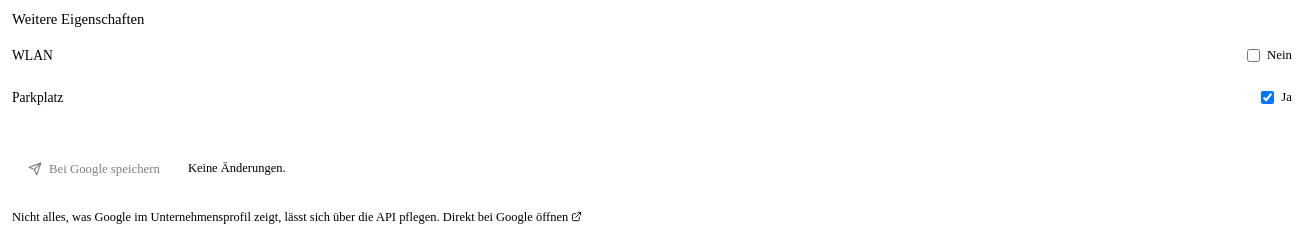
it: Speichern › sendet nichts nach Hin- und Zurückändern
Click the checkbox named "WLAN" at [1254, 56], box 1247,49 -> 1260,62
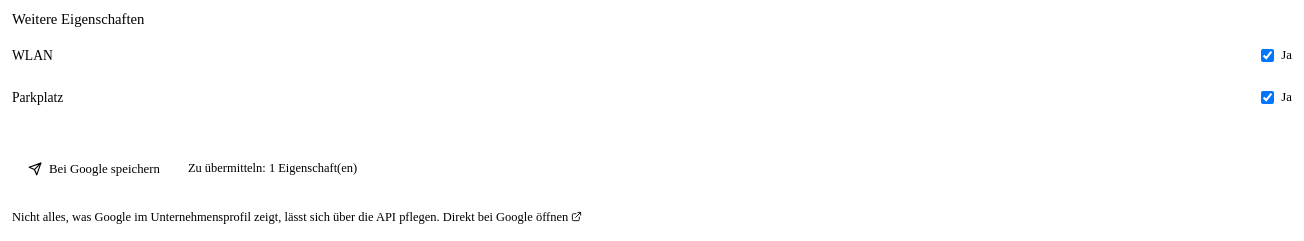
Now the button "Bei Google speichern" is enabled, box 12,153 -> 176,186
Click the checkbox named "WLAN" at [1268, 56], box 1261,49 -> 1274,62
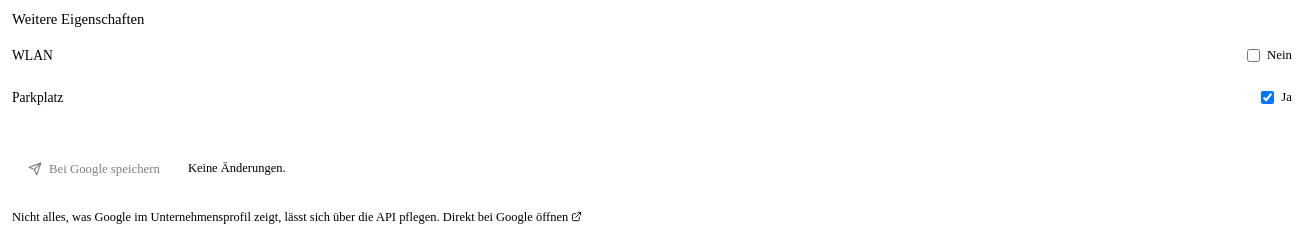
Now the button "Bei Google speichern" is disabled, box 12,153 -> 176,186
